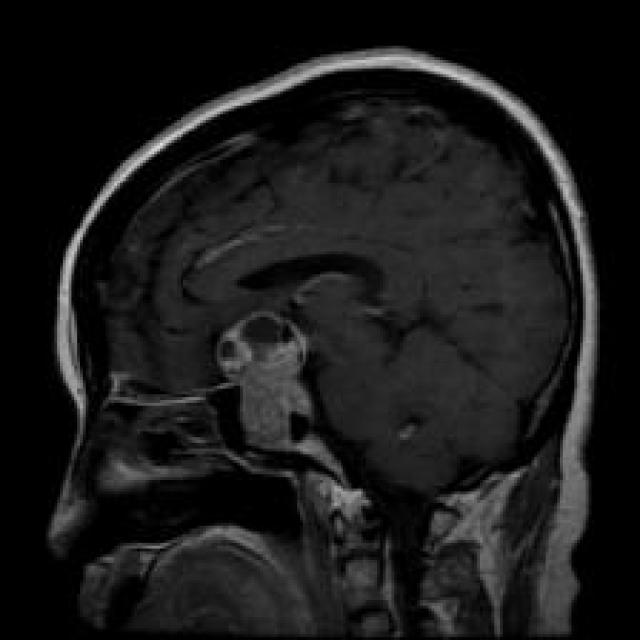pituitary_tumor: (206, 294, 338, 476)
